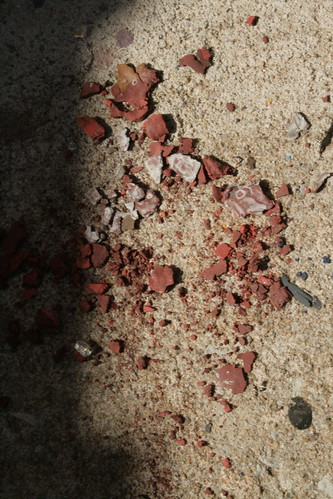trash: (1, 32, 308, 442)
